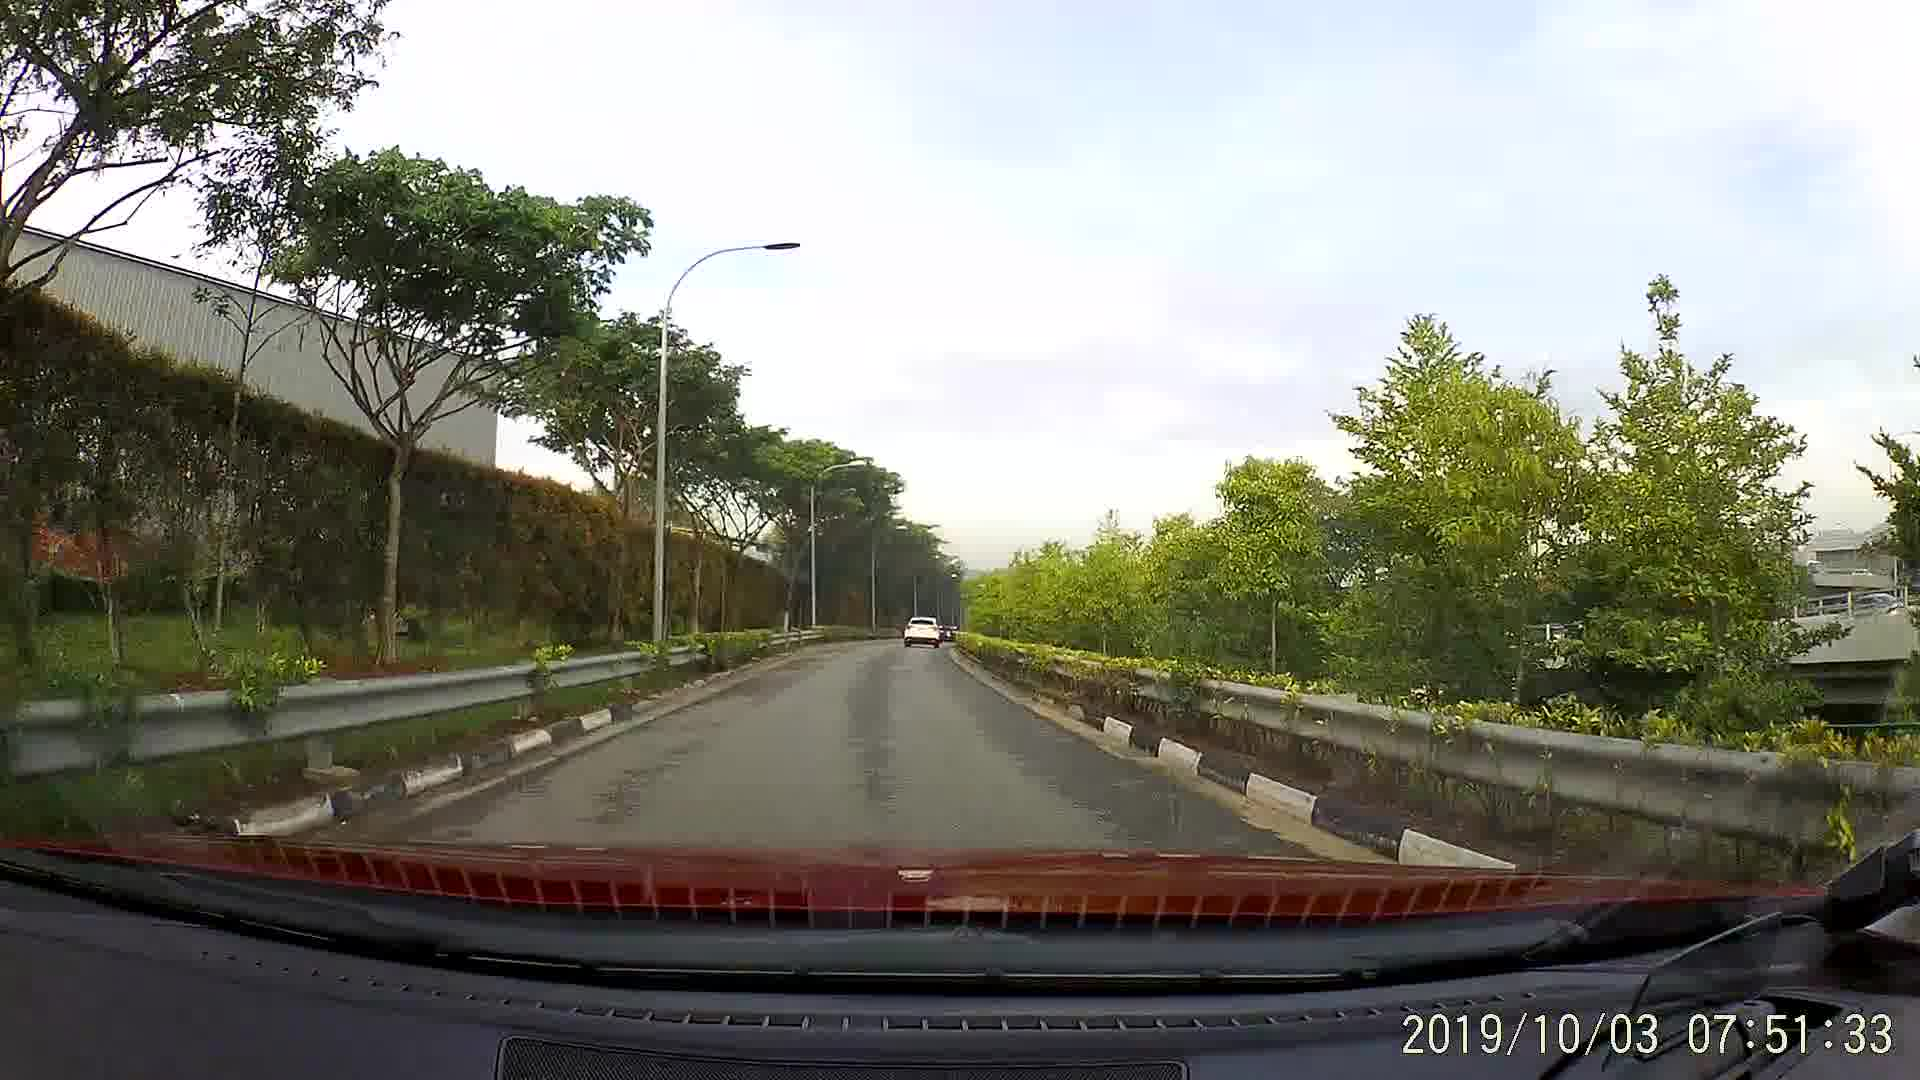car: (899, 611, 939, 647), (938, 622, 956, 640)
